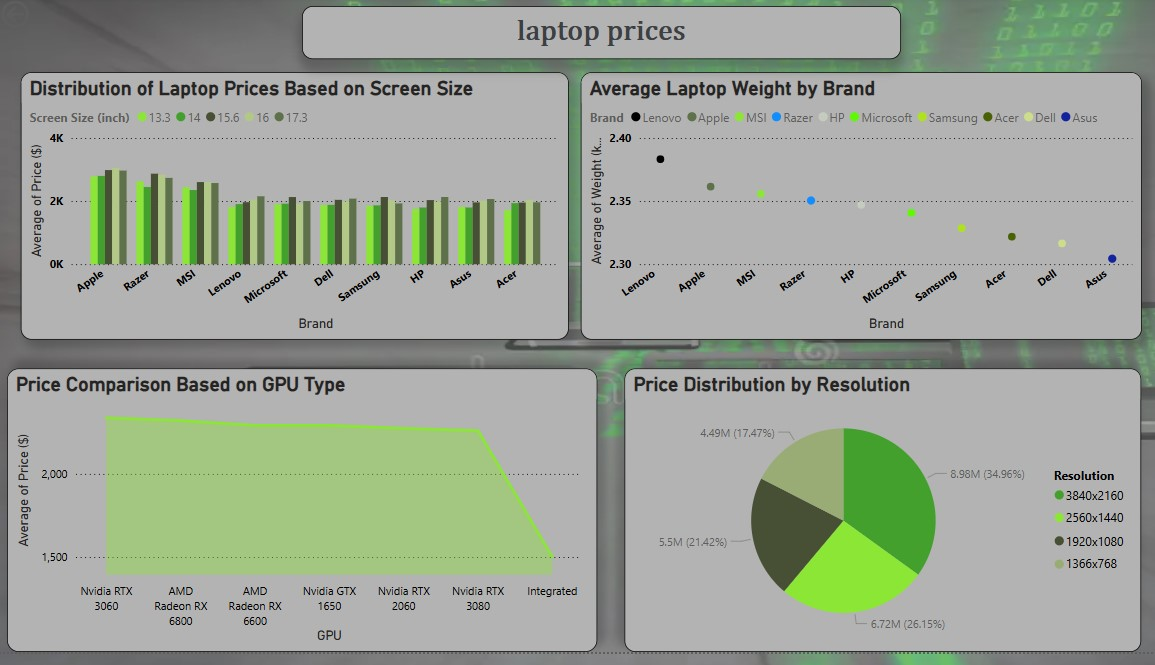

Layout of this report page (visuals, bound fields, positions):
{"tool":"powerbi","page":{"name":"Page 1","canvas":[1280,720],"ordinal":0},"visuals":[{"type":"clusteredColumnChart","title":" Distribution of Laptop Prices Based on Screen Size","fields":{"Category":["laptop_prices.Brand"],"Y":["Avg(laptop_prices.Price ($))"],"Series":["laptop_prices.Screen Size (inch)"]},"box":[25.7,84.1,601.7,293.7],"z":0},{"type":"actionButton","box":[0,0,100,40],"z":1000},{"type":"stackedAreaChart","title":"Price Comparison Based on GPU Type","fields":{"Y":["Avg(laptop_prices.Price ($))"],"Category":["laptop_prices.GPU"]},"box":[11.4,409.2,647.3,310.8],"z":2000},{"type":"lineChart","title":"Average Laptop Weight by Brand","fields":{"Category":["laptop_prices.Brand"],"Y":["Avg(laptop_prices.Weight (kg))"],"Series":["laptop_prices.Brand"]},"box":[640.1,84.1,615.9,293.7],"z":3000},{"type":"pieChart","title":"Price Distribution by Resolution","fields":{"Category":["laptop_prices.Resolution"],"Y":["Sum(laptop_prices.Price ($))"]},"box":[688.6,409.2,567.4,310.8],"z":4000},{"type":"textbox","box":[335,11.4,657.3,58.5],"z":5000}]}

Visuals, with their boxes in screenshot pixels (x1, y1, x2, y2), scaled from the page's 1280x720 canvas onto the 1155x665 screenshot:
" Distribution of Laptop Prices Based on Screen Size" clusteredColumnChart: {"left": 23, "top": 78, "right": 566, "bottom": 349}
actionButton: {"left": 0, "top": 0, "right": 90, "bottom": 37}
"Price Comparison Based on GPU Type" stackedAreaChart: {"left": 10, "top": 378, "right": 594, "bottom": 664}
"Average Laptop Weight by Brand" lineChart: {"left": 578, "top": 78, "right": 1133, "bottom": 349}
"Price Distribution by Resolution" pieChart: {"left": 621, "top": 378, "right": 1133, "bottom": 664}
textbox: {"left": 302, "top": 11, "right": 895, "bottom": 65}
